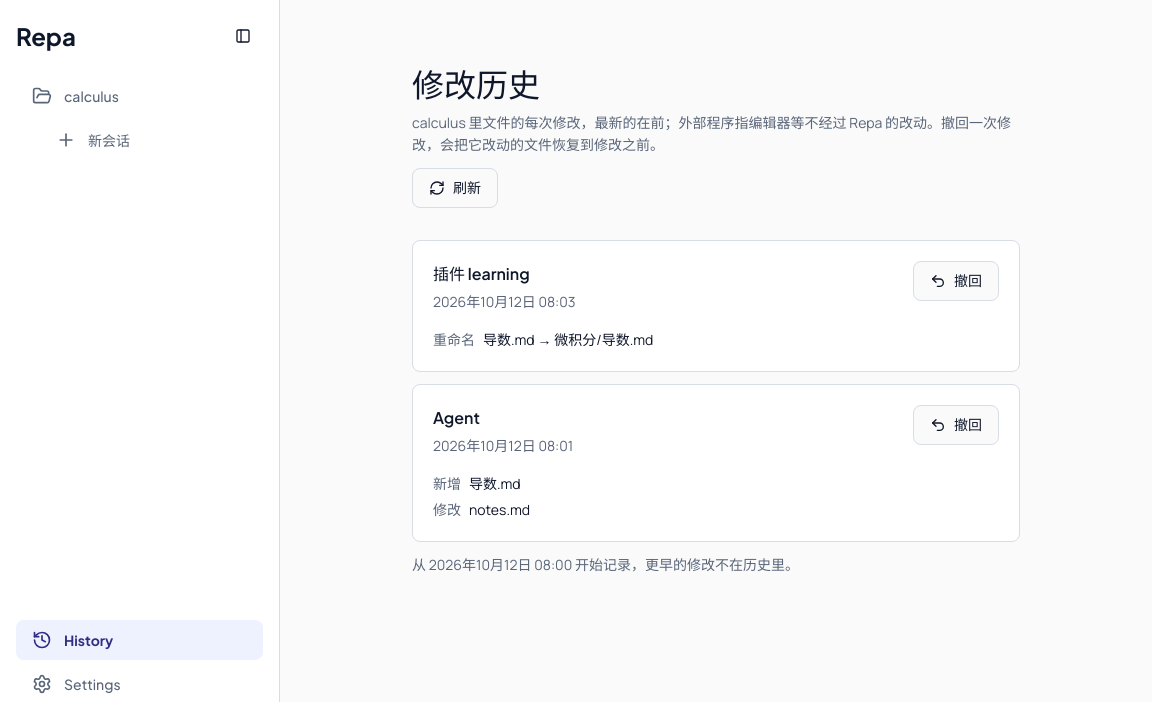
Test: 确认后撤回一次修改，显示恢复了几个文件，撤回本身也出现在列表里；取消不撤回
Step 1. Click the 2nd button "撤回" → (956, 425), box left=913, top=405, right=999, bottom=445
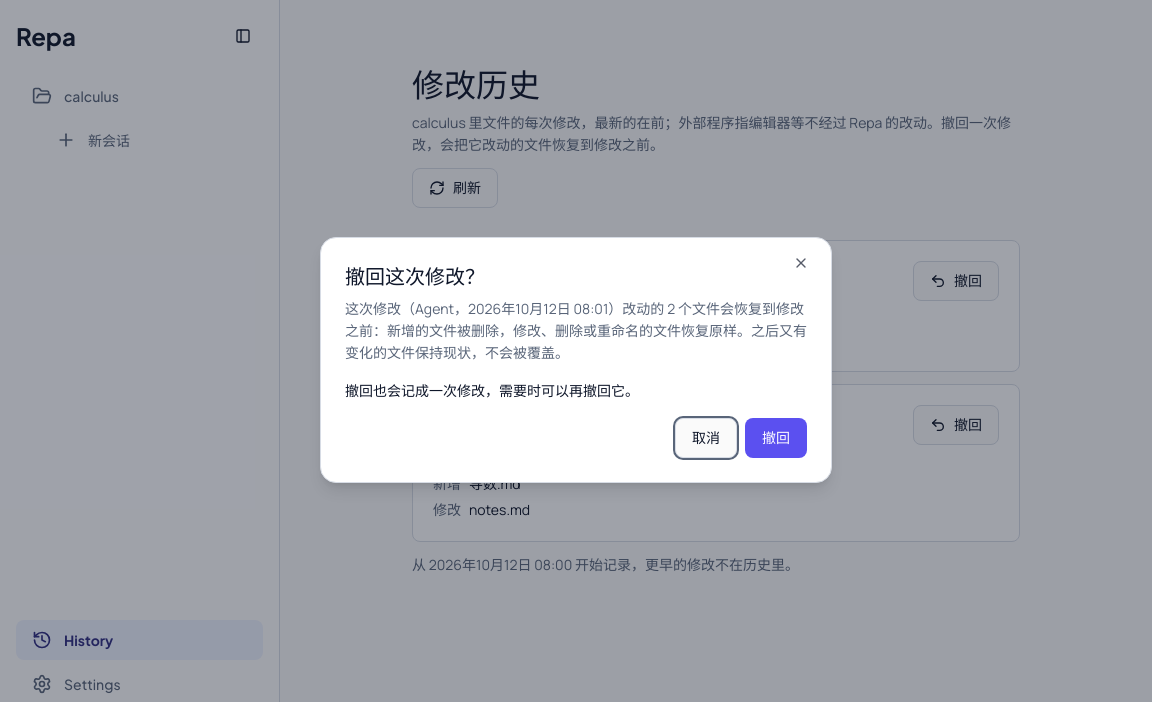
Expected: the text "改动的 2 个文件会恢复到修改之前" is shown, left=345, top=298, right=807, bottom=364
Step 2. Click the button "取消" → (706, 438), box left=675, top=418, right=737, bottom=458
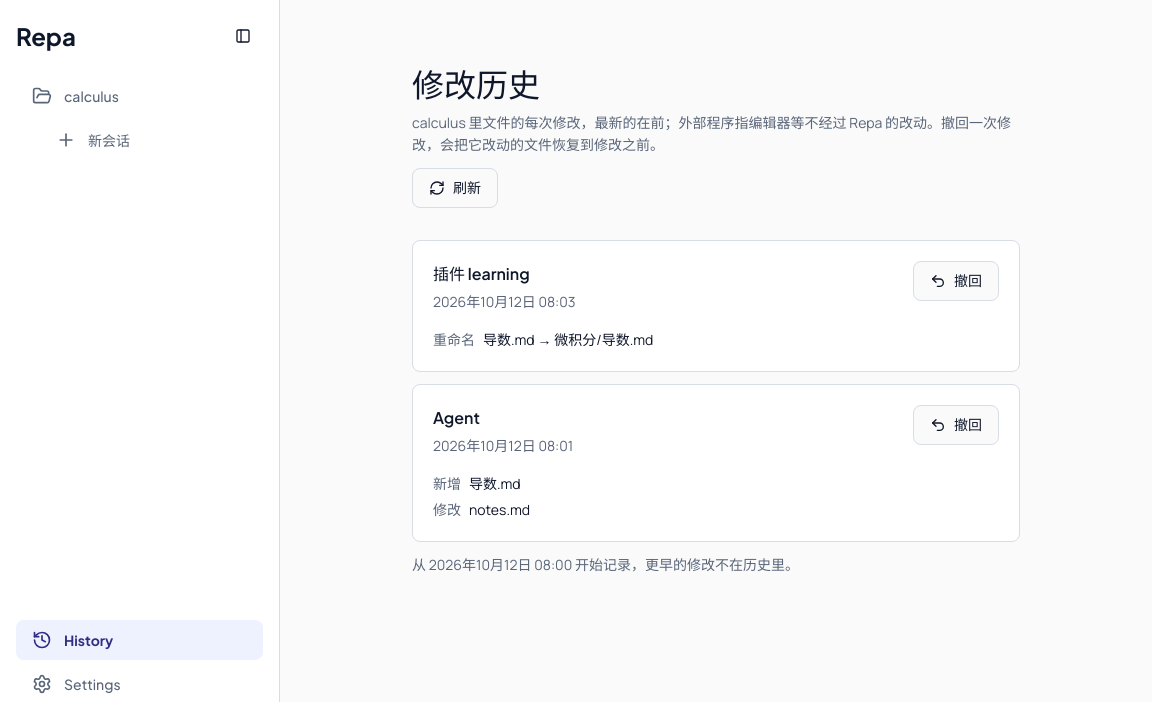
Expected: the dialog is gone
Step 3. Click the 2nd button "撤回" → (956, 425), box left=913, top=405, right=999, bottom=445
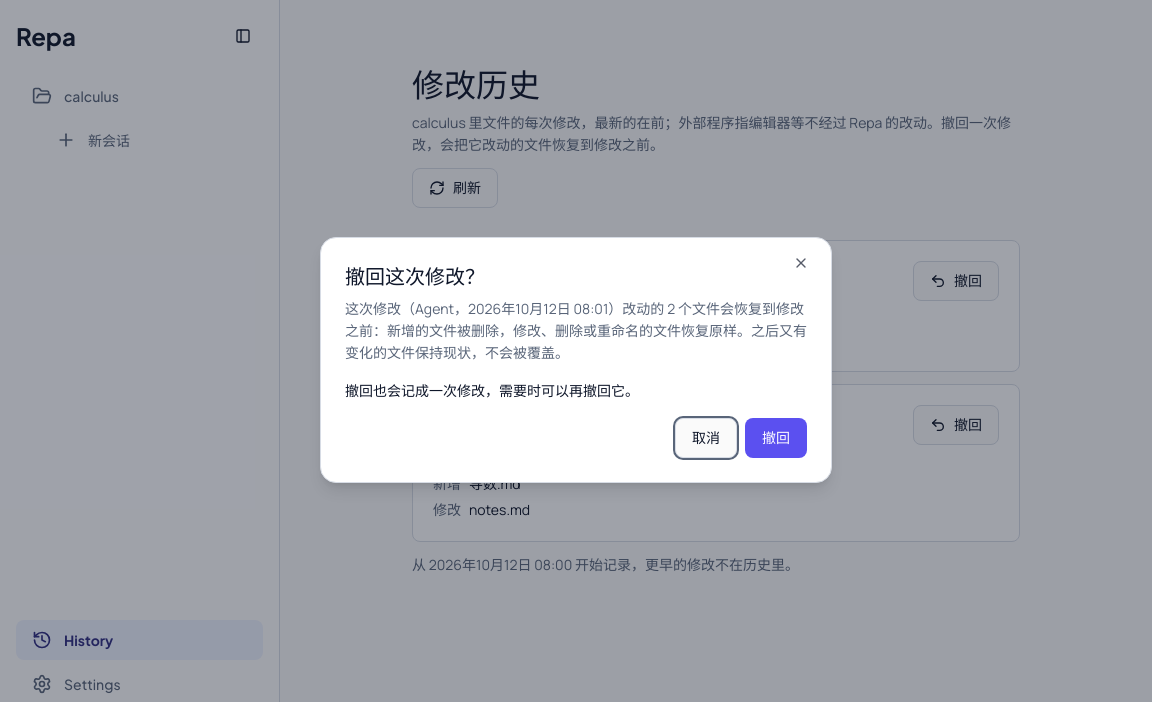
Step 4. Click the button "撤回" → (776, 438), box left=745, top=418, right=807, bottom=458
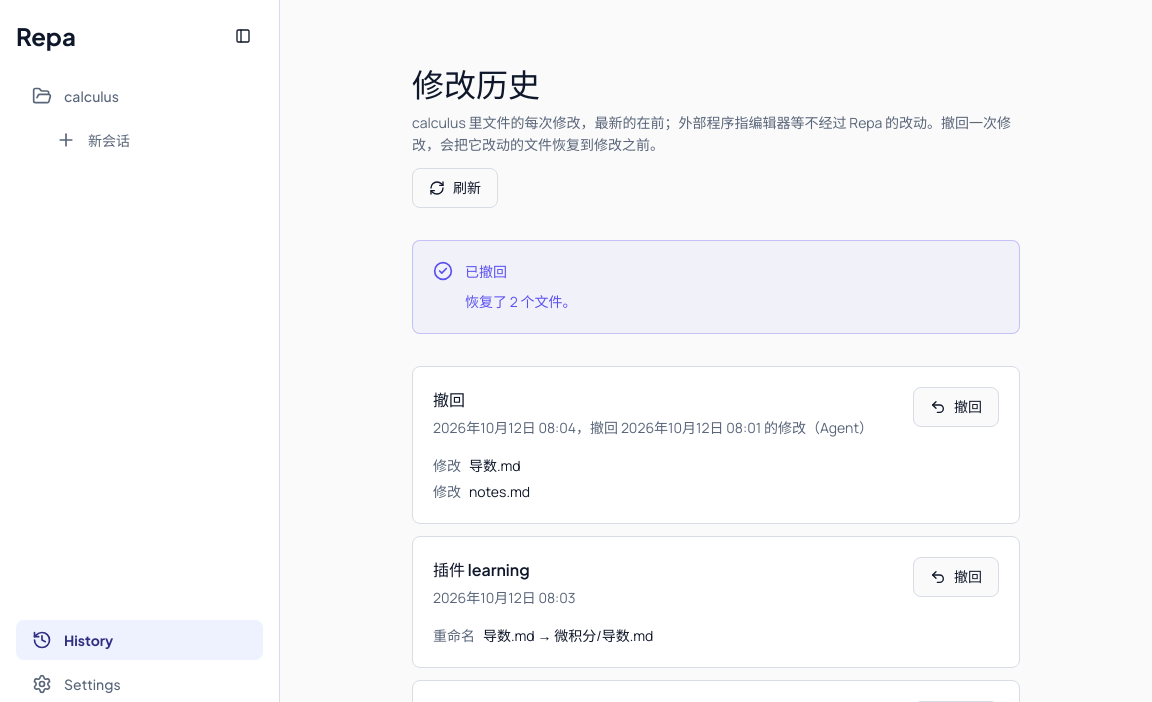
Expected: the dialog is gone
Expected: the message shows "已撤回", left=465, top=262, right=507, bottom=281
Expected: the message shows "恢复了 2 个文件。", left=465, top=292, right=577, bottom=311
